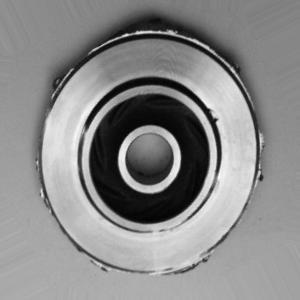casting_with_burr: (33, 24, 266, 280)
crack: (197, 100, 226, 130)
scratch: (140, 218, 185, 246)
